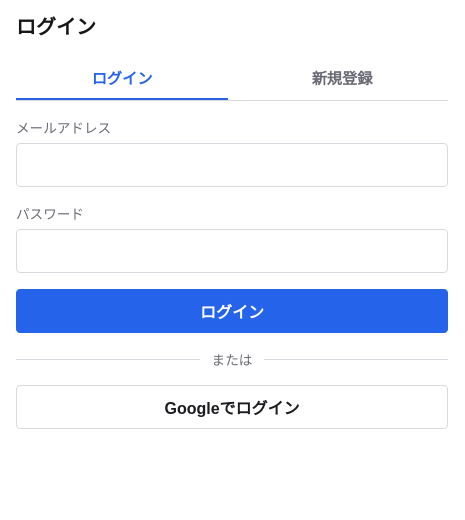
Test: LoginForm › Googleログイン › Google OAuth開始に失敗した場合はエラーを表示する
Click the button "Googleでログイン". click: (232, 407)
box: [16,385,448,429]
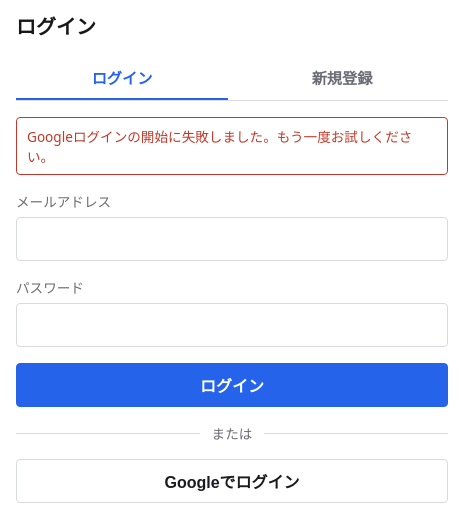
Now the message reads "Googleログインの開始に失敗しました。もう一度お試しください。", box [27,127,412,166]
